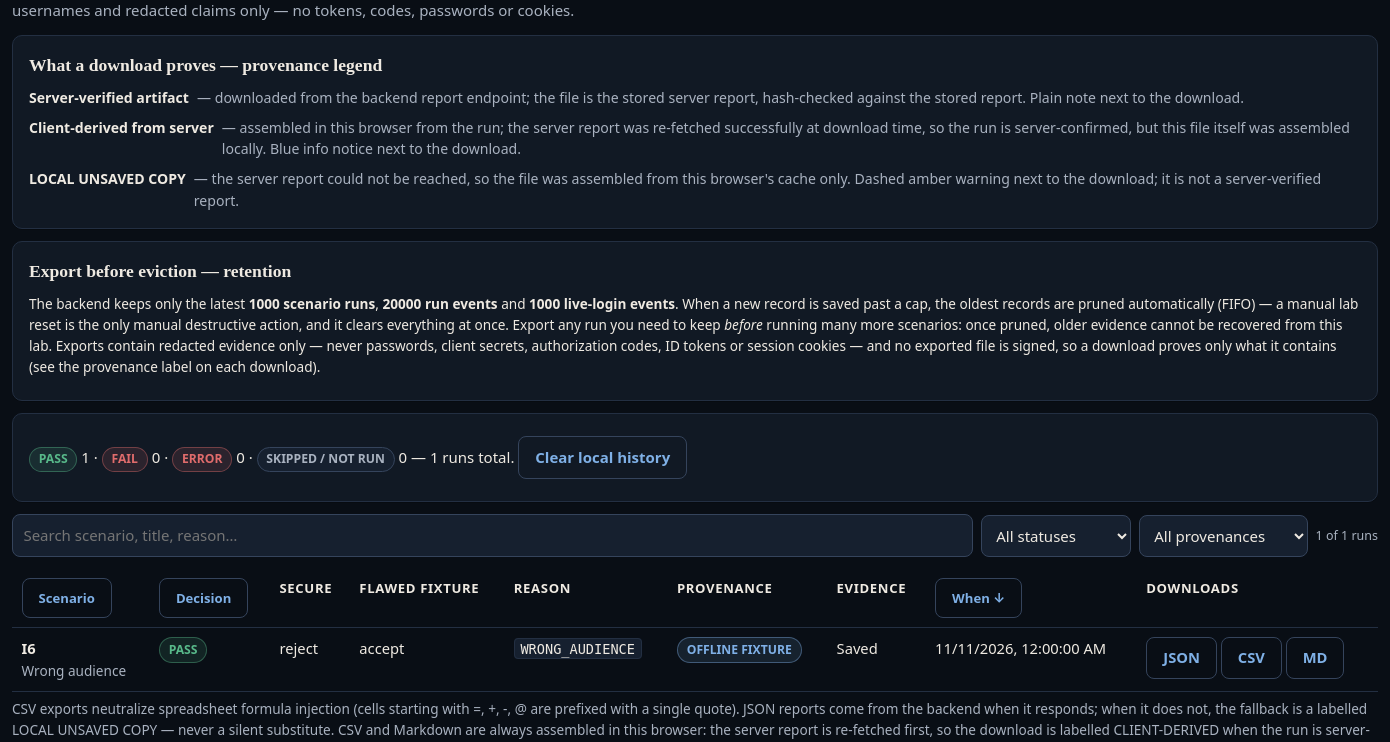
Test: Findings download provenance notices (IF-V4-12) › JSON download shows the server-verified note when the backend serves the report
The image size is (1390, 742).
(page scrolled)
Click the button "JSON". click: x=1182, y=658
box: [1146, 637, 1217, 679]
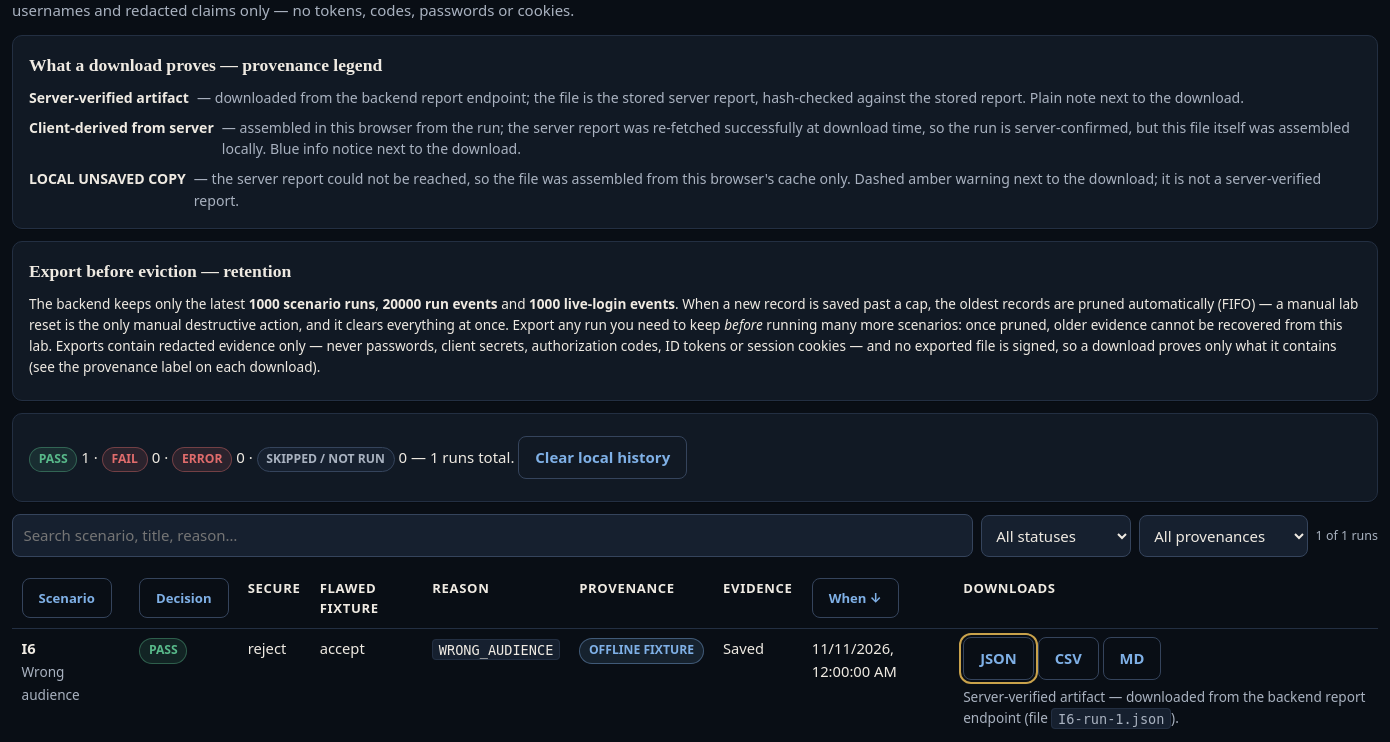
Expected: the text "Server-verified artifact" is shown, [963, 687, 1365, 727]
